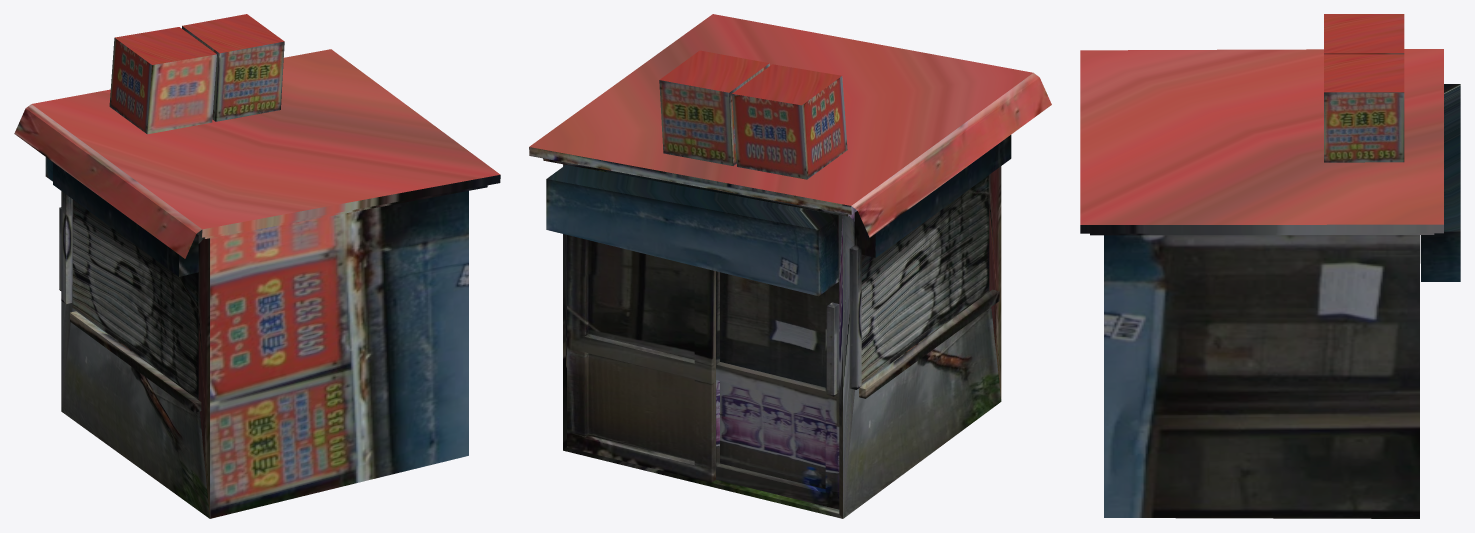
The model's file is 方塊招牌屋.fbx.
3 renders of one model, left to right at view 1: azimuth 30°, elevation 25°; view 2: azimuth 150°, elevation 25°; view 3: azimuth 270°, elevation 25°, orthographic. The views are drawn at different scales.
Parts seen in each view (by area): view 1: 5_方塊招牌屋; view 2: 5_方塊招牌屋; view 3: 5_方塊招牌屋.
Boxes of the visible parts, <box> form: 5_方塊招牌屋: <box>14,14,500,518</box>; 5_方塊招牌屋: <box>529,14,1051,518</box>; 5_方塊招牌屋: <box>1080,14,1460,518</box>.
Bounding box in the file's own units: 250 × 278 × 244.
Materials: 1 (1 with a texture image).
